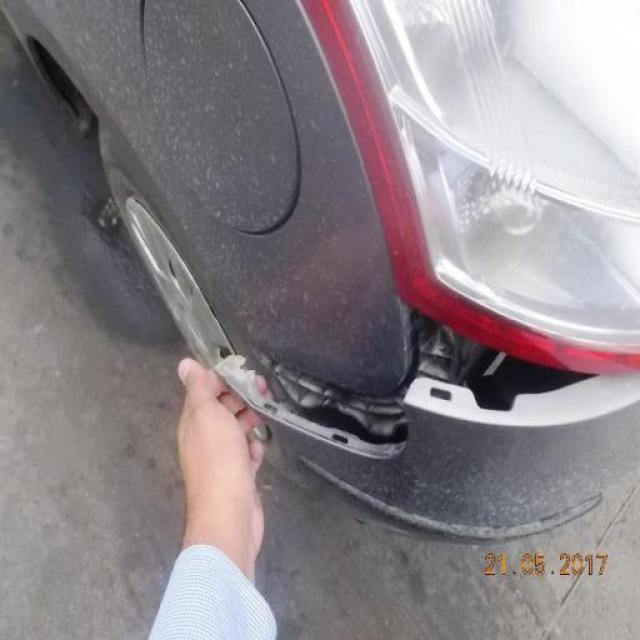tear: (220, 297, 602, 465)
